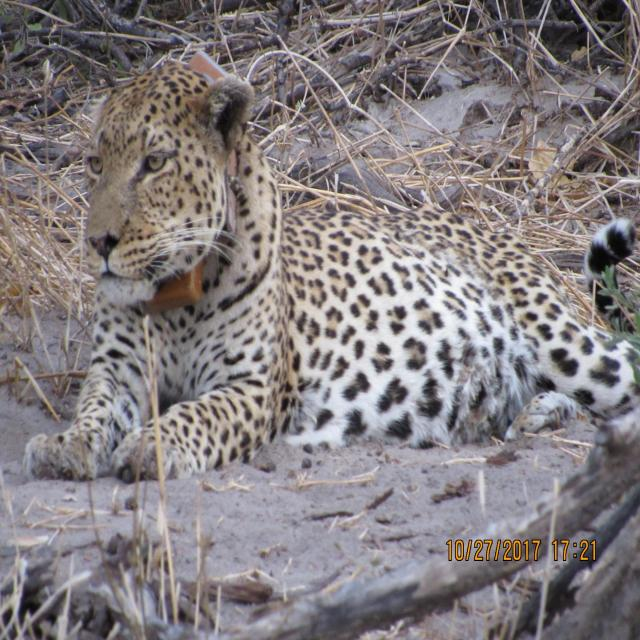Leopard: (0, 44, 639, 492)
